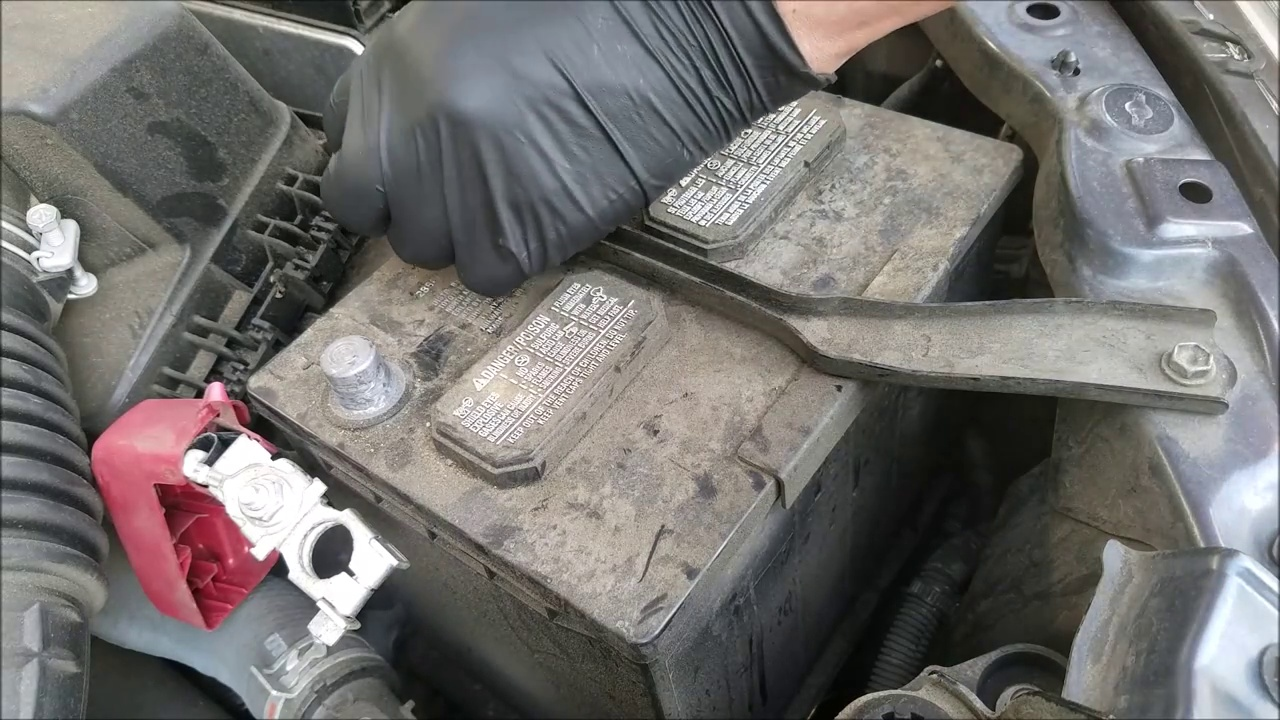battery: (235, 62, 1046, 637)
pos_disconnected: (105, 314, 421, 623)
